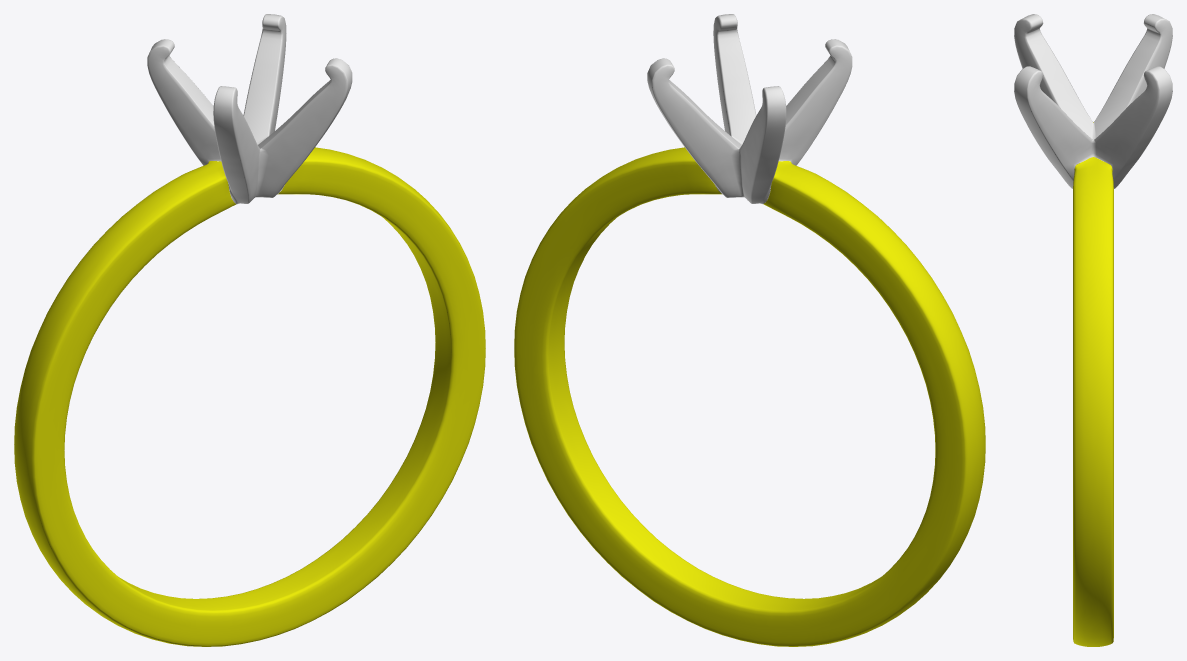
Rendered from Ring_17740_JV_RND_100.gltf.
3 views of the same model, side by side, from view 1: azimuth 30°, elevation 25°; view 2: azimuth 150°, elevation 25°; view 3: azimuth 270°, elevation 25° (orthographic).
Parts seen in each view (by area): view 1: Body; view 2: Body; view 3: Body.
Boxes of the visible parts, x1,y1,x2,y2 form: Body: (14, 14, 485, 646); Body: (514, 14, 985, 646); Body: (1014, 14, 1172, 646).
Bounding box in the file's own units: 0.0193 × 0.0235 × 0.00583.
